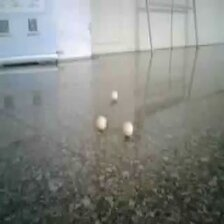tennis: (171, 105, 191, 134), (23, 65, 38, 84), (95, 75, 109, 95), (108, 57, 118, 71)
